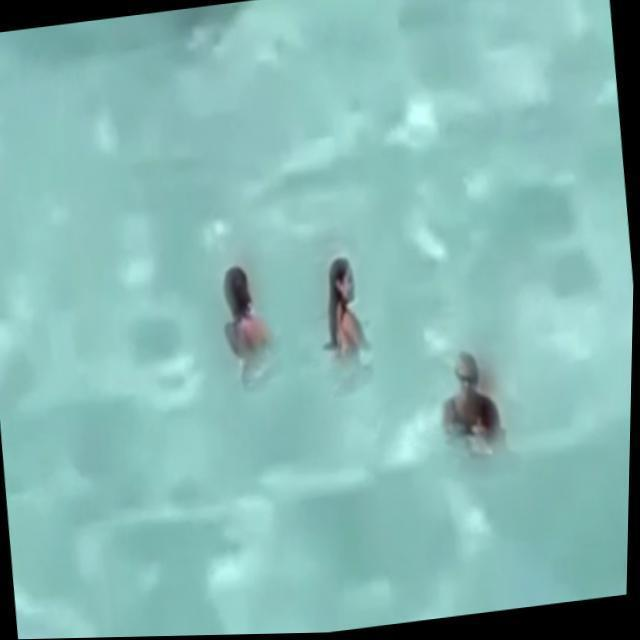swimming: (418, 343, 526, 475), (198, 258, 299, 392), (308, 247, 381, 402)
